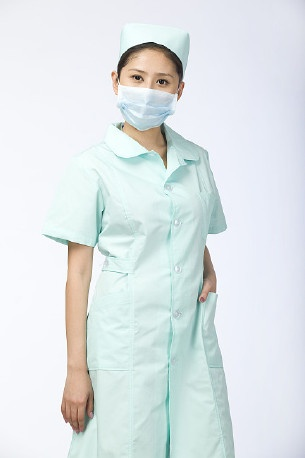Mask: (115, 62, 186, 132)
